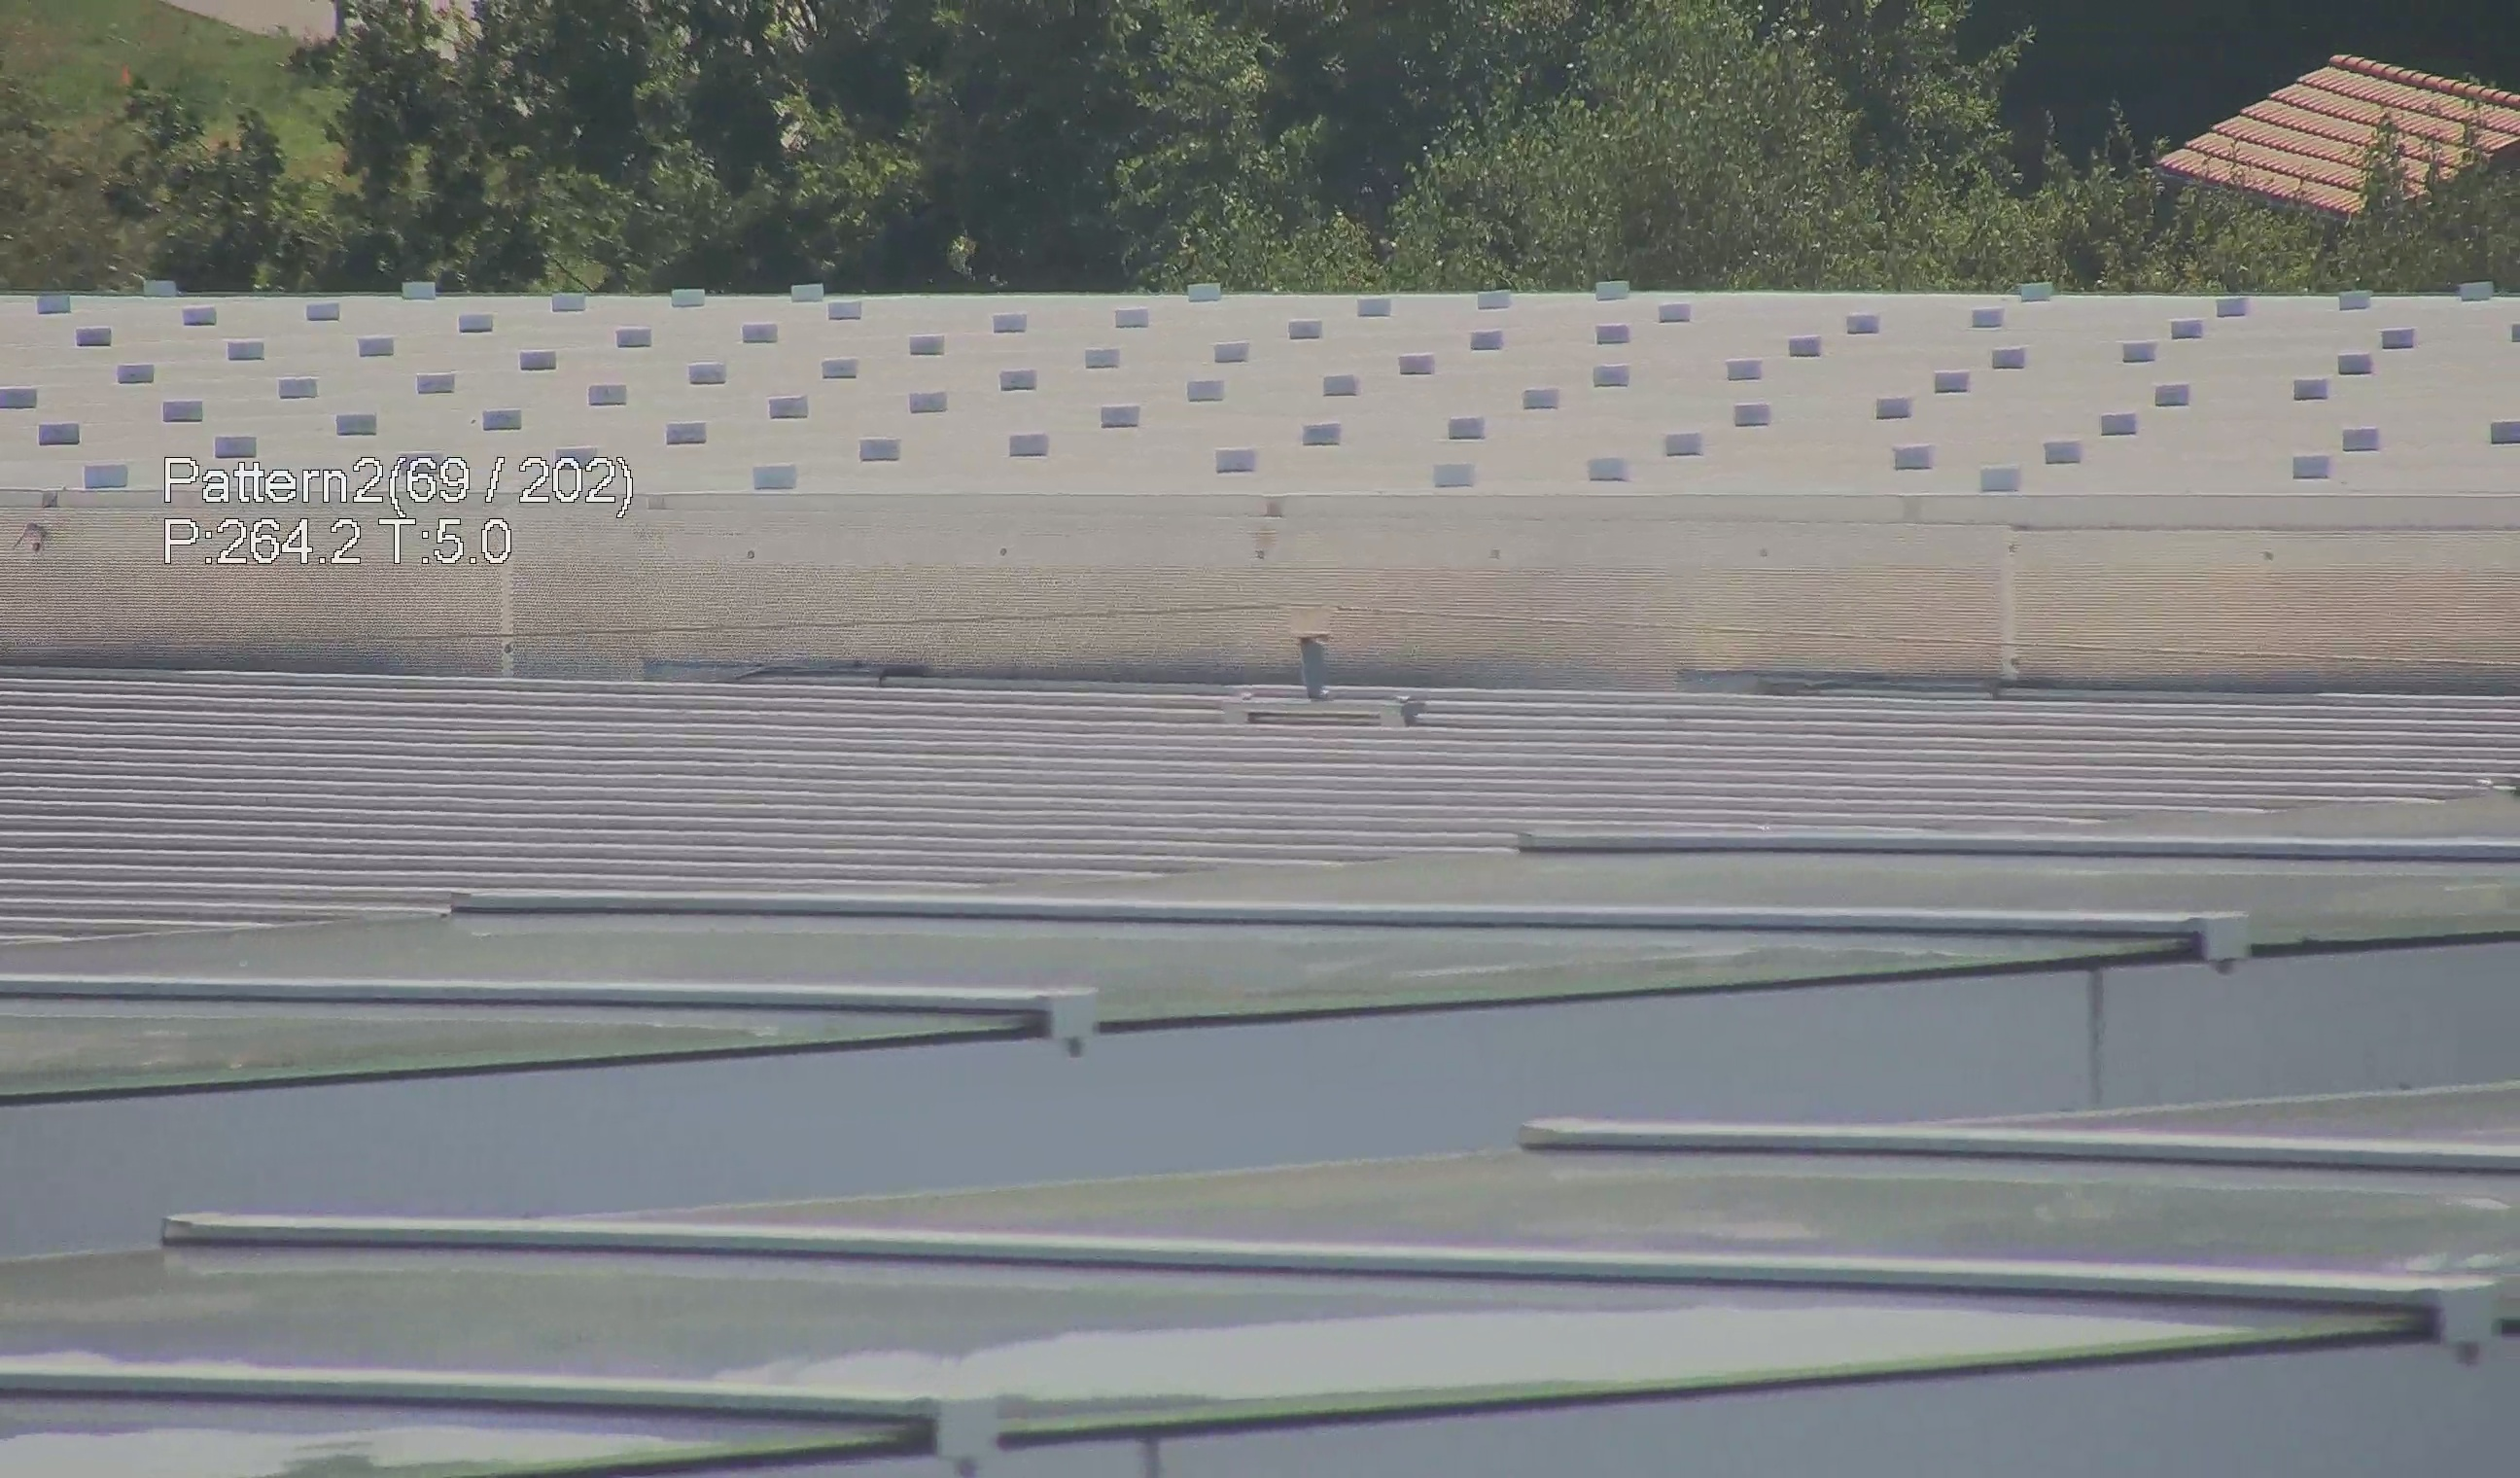Other: (1291, 625, 1344, 707)
